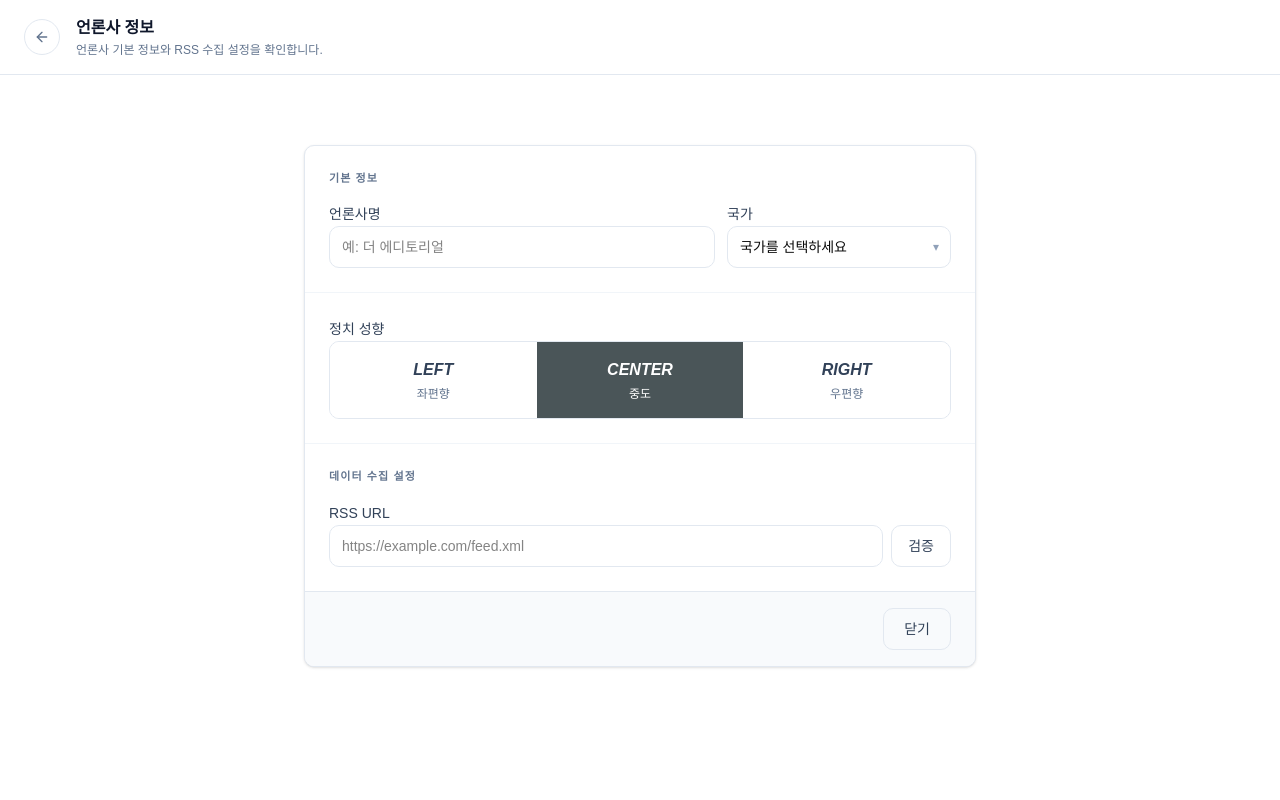
Test case: PublisherForm - 신규 › 유효한 RSS URL 입력 후 검증 버튼 클릭 시 성공 메시지가 표시된다
Type "https://rss.example.com/feed" into the field with placeholder "https://example.com/feed.xml". click: (606, 546)
box: [329,524,883,566]
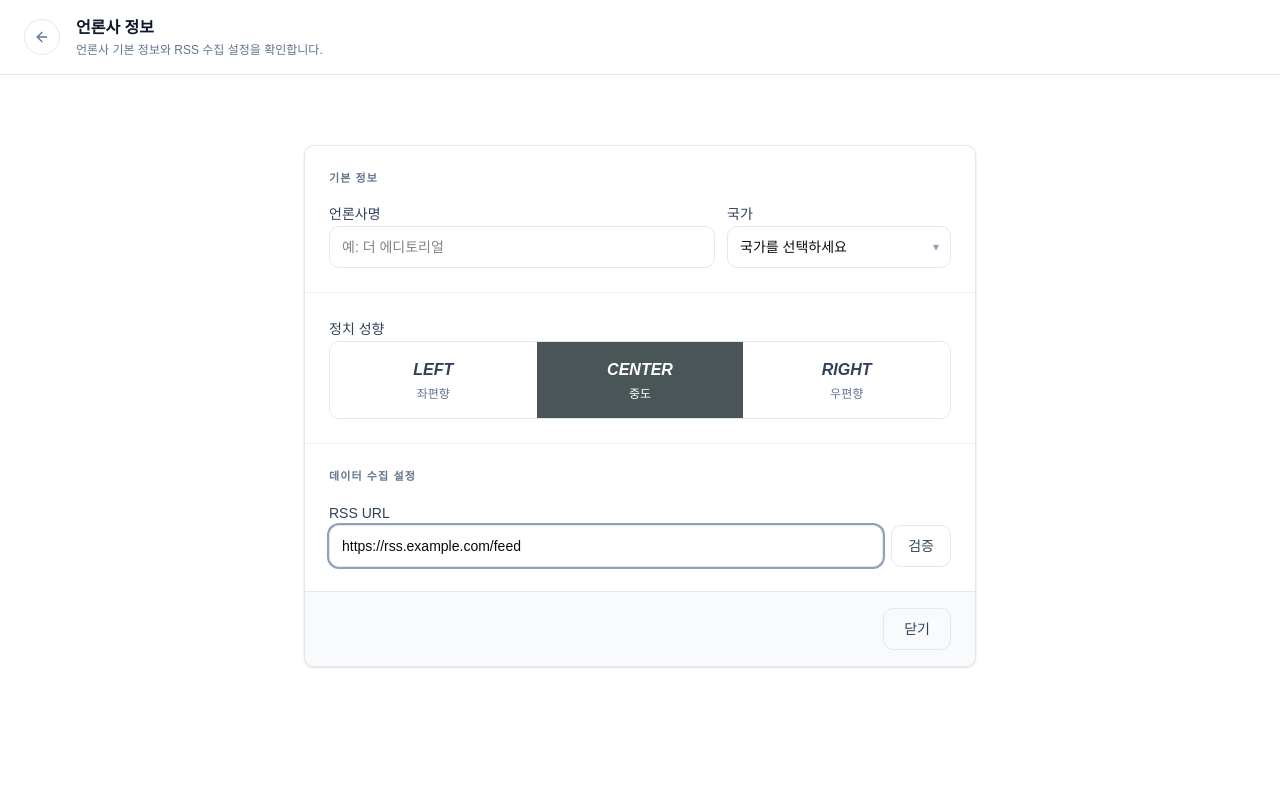
Click the button "검증". click: (921, 546)
box: [891,524,951,566]
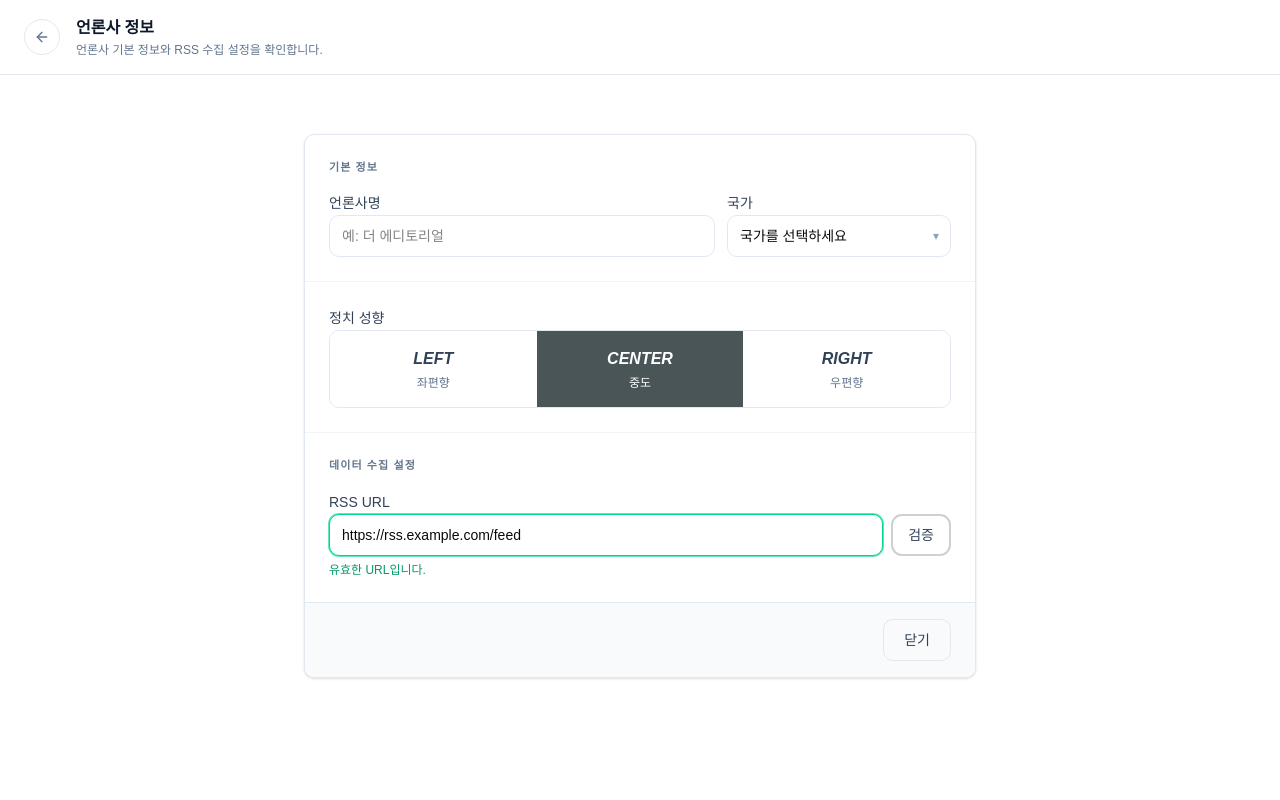
Now the text "유효한 URL입니다." is shown, box [329,562,426,576]
